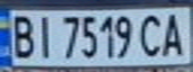1: (97, 12, 118, 59)
5: (78, 12, 100, 60)
7: (57, 12, 81, 60)
9: (112, 11, 139, 58)
A: (157, 9, 190, 58)
B: (6, 11, 39, 60)
C: (136, 11, 166, 58)
I: (30, 12, 57, 60)
